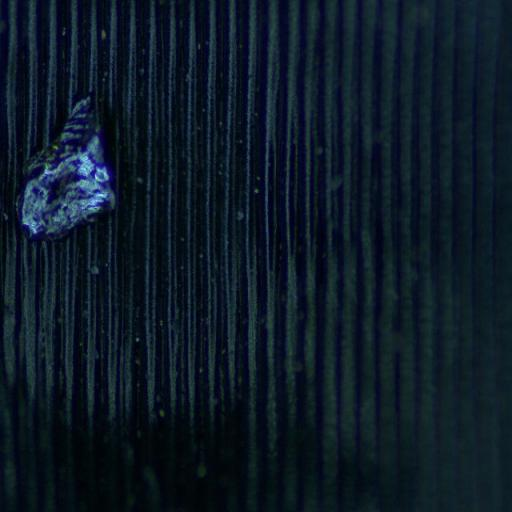mineral: (15, 92, 114, 240)
